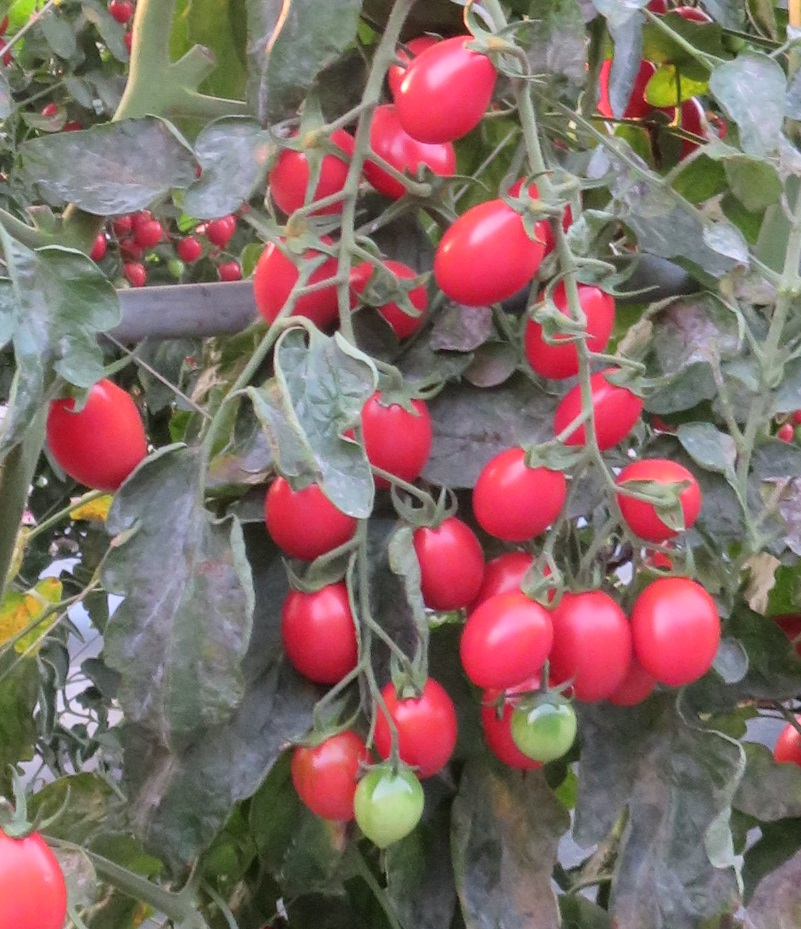green: (353, 765, 430, 854), (514, 696, 584, 770)
red: (395, 30, 505, 149), (427, 199, 553, 302), (45, 380, 158, 482), (355, 103, 459, 200), (550, 587, 631, 709), (523, 275, 617, 380), (462, 588, 554, 694), (636, 574, 717, 689), (474, 443, 568, 542), (259, 469, 366, 555), (281, 579, 365, 684), (257, 239, 353, 329), (378, 678, 463, 776), (1, 806, 68, 929), (275, 114, 346, 224), (286, 732, 368, 825), (413, 509, 487, 609), (363, 387, 434, 488), (553, 376, 660, 442), (351, 254, 429, 342), (614, 467, 708, 540), (133, 220, 164, 248), (204, 220, 232, 247), (121, 261, 147, 290), (176, 239, 201, 263), (89, 233, 107, 263)
